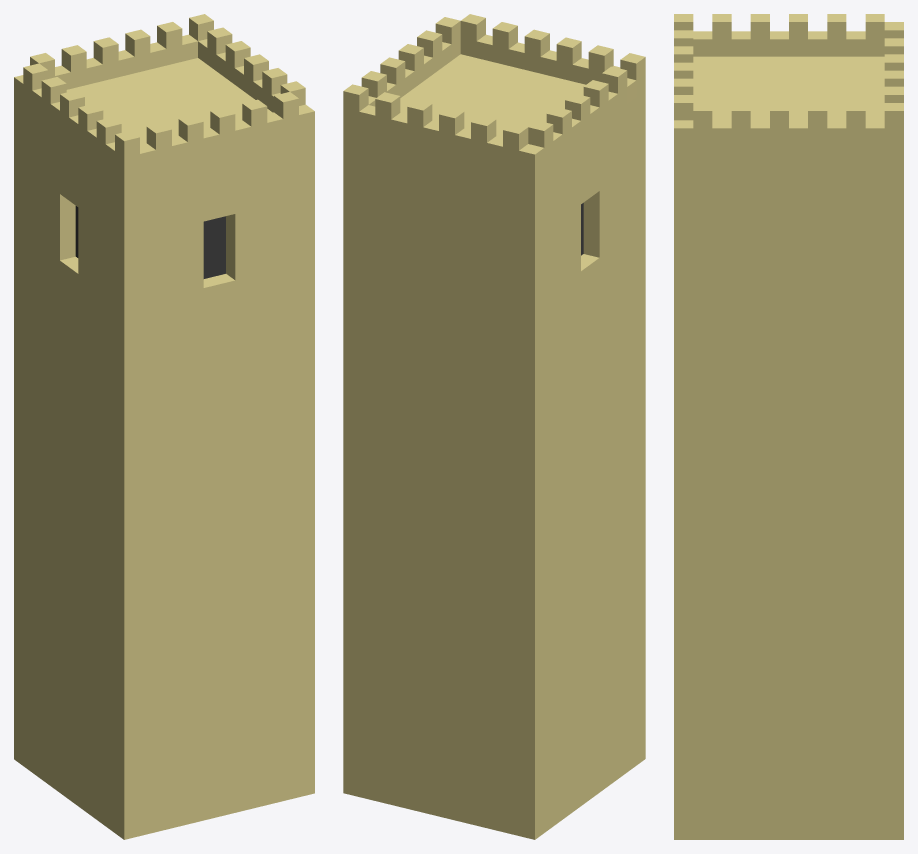
File: CityTower01.fbx
The picture shows the model from 3 angles, left to right: view 1: azimuth 30°, elevation 25°; view 2: azimuth 150°, elevation 25°; view 3: azimuth 270°, elevation 25°; orthographic projection. The views are drawn at different scales.
Visible parts, largest first — view 1: CityTower01_LOD0; view 2: CityTower01_LOD0; view 3: CityTower01_LOD0.
Part boxes in pixels (x1=…): CityTower01_LOD0: x1=14, y1=14, x2=314, y2=839; CityTower01_LOD0: x1=343, y1=14, x2=645, y2=839; CityTower01_LOD0: x1=674, y1=14, x2=903, y2=839.
Size of what is drawn, in the model's own units: 600 by 2100 by 600.
